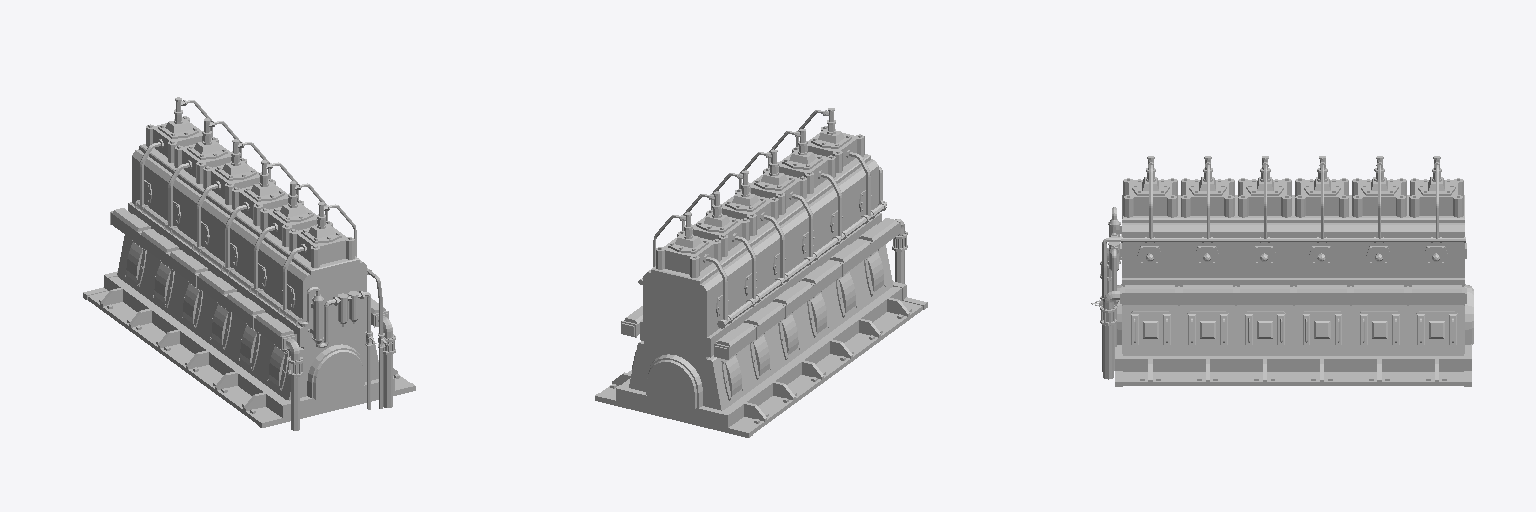
File: Engine.obj
3 renders of one model, left to right at view 1: azimuth 30°, elevation 25°; view 2: azimuth 150°, elevation 25°; view 3: azimuth 270°, elevation 25°, orthographic.
Visible parts, largest first — view 1: engine001_1; view 2: engine001_1; view 3: engine001_1.
Boxes of the visible parts, box(x1,y1,x2,y2) form: engine001_1: box(83, 97, 415, 430); engine001_1: box(595, 108, 927, 437); engine001_1: box(1091, 156, 1473, 386).
Size of the model in its own units: 4.74 by 5.85 by 10.35.